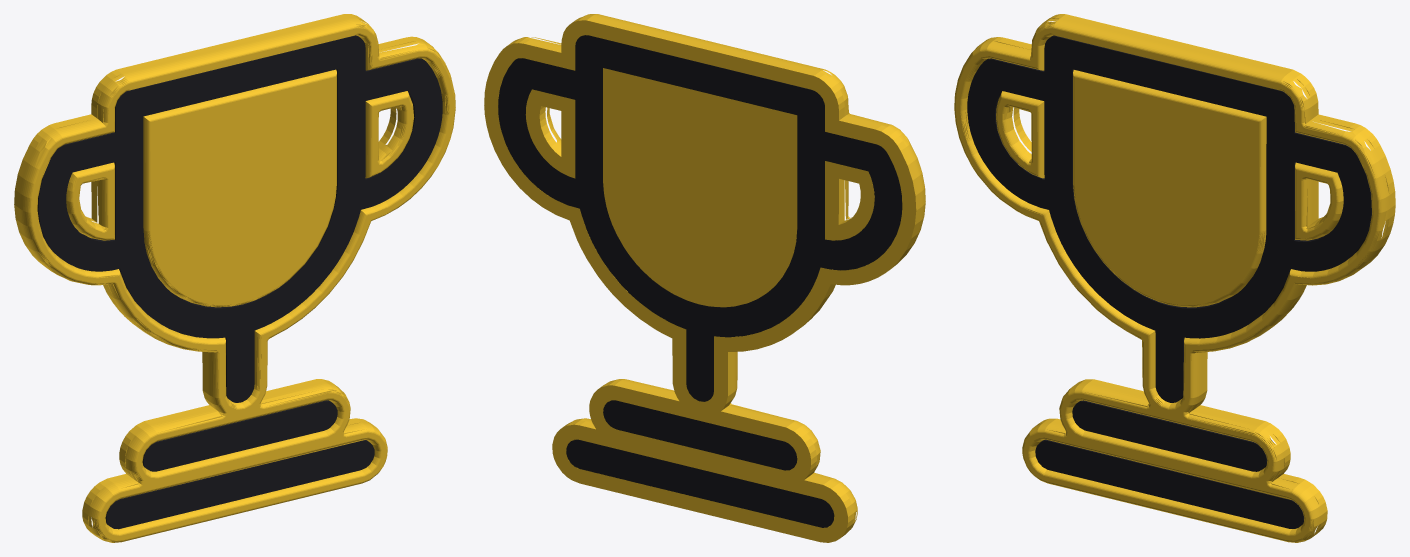
Rendered from records_t3.glb.
3 views of the same model, side by side, from view 1: azimuth 30°, elevation 25°; view 2: azimuth 150°, elevation 25°; view 3: azimuth 330°, elevation 25° (orthographic).
Visible parts, largest first — view 1: mark, mark_channel; view 2: mark, mark_channel; view 3: mark, mark_channel.
Part boxes in pixels (x1=…): mark: x1=14, y1=14, x2=455, y2=542; mark_channel: x1=37, y1=35, x2=442, y2=529; mark: x1=484, y1=14, x2=925, y2=542; mark_channel: x1=498, y1=35, x2=902, y2=527; mark: x1=954, y1=14, x2=1395, y2=542; mark_channel: x1=967, y1=35, x2=1371, y2=528.
Bounding box in the file's own units: 0.4669 × 0.4799 × 0.024.
